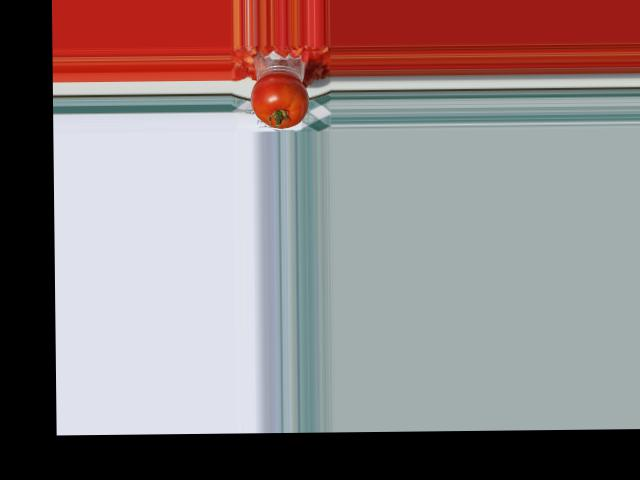tomato: (249, 72, 309, 129)
